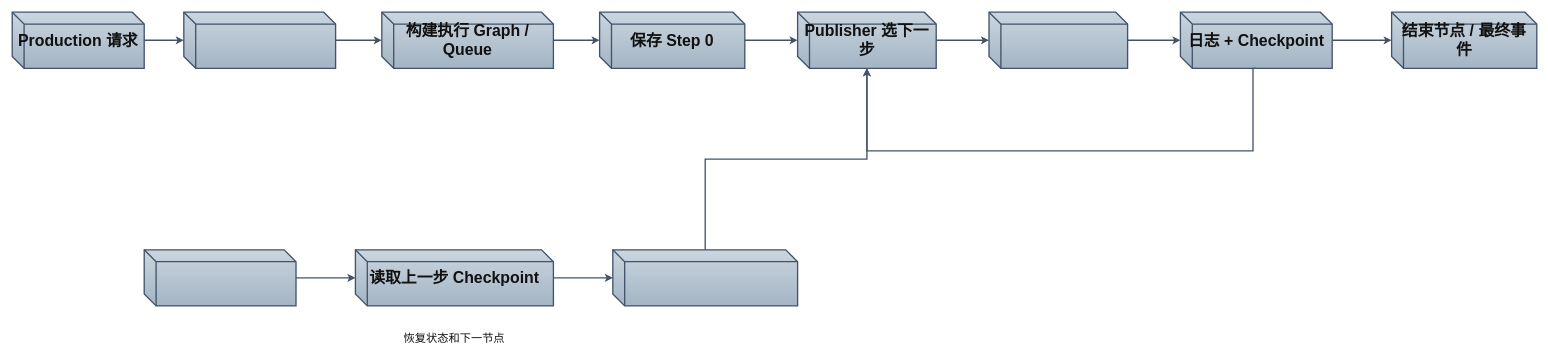
Some shapes in this 1548 by 360 pixel diagram are drawn without their labels. Each missing label, with the centre of its shape:
"AgentProxy 执行" goes at (x=1058, y=40).
"Resume 请求" goes at (x=219, y=277).
"加载工作流与步骤" goes at (x=259, y=40).
"清理未来检查点并快进队列" goes at (x=705, y=277).
